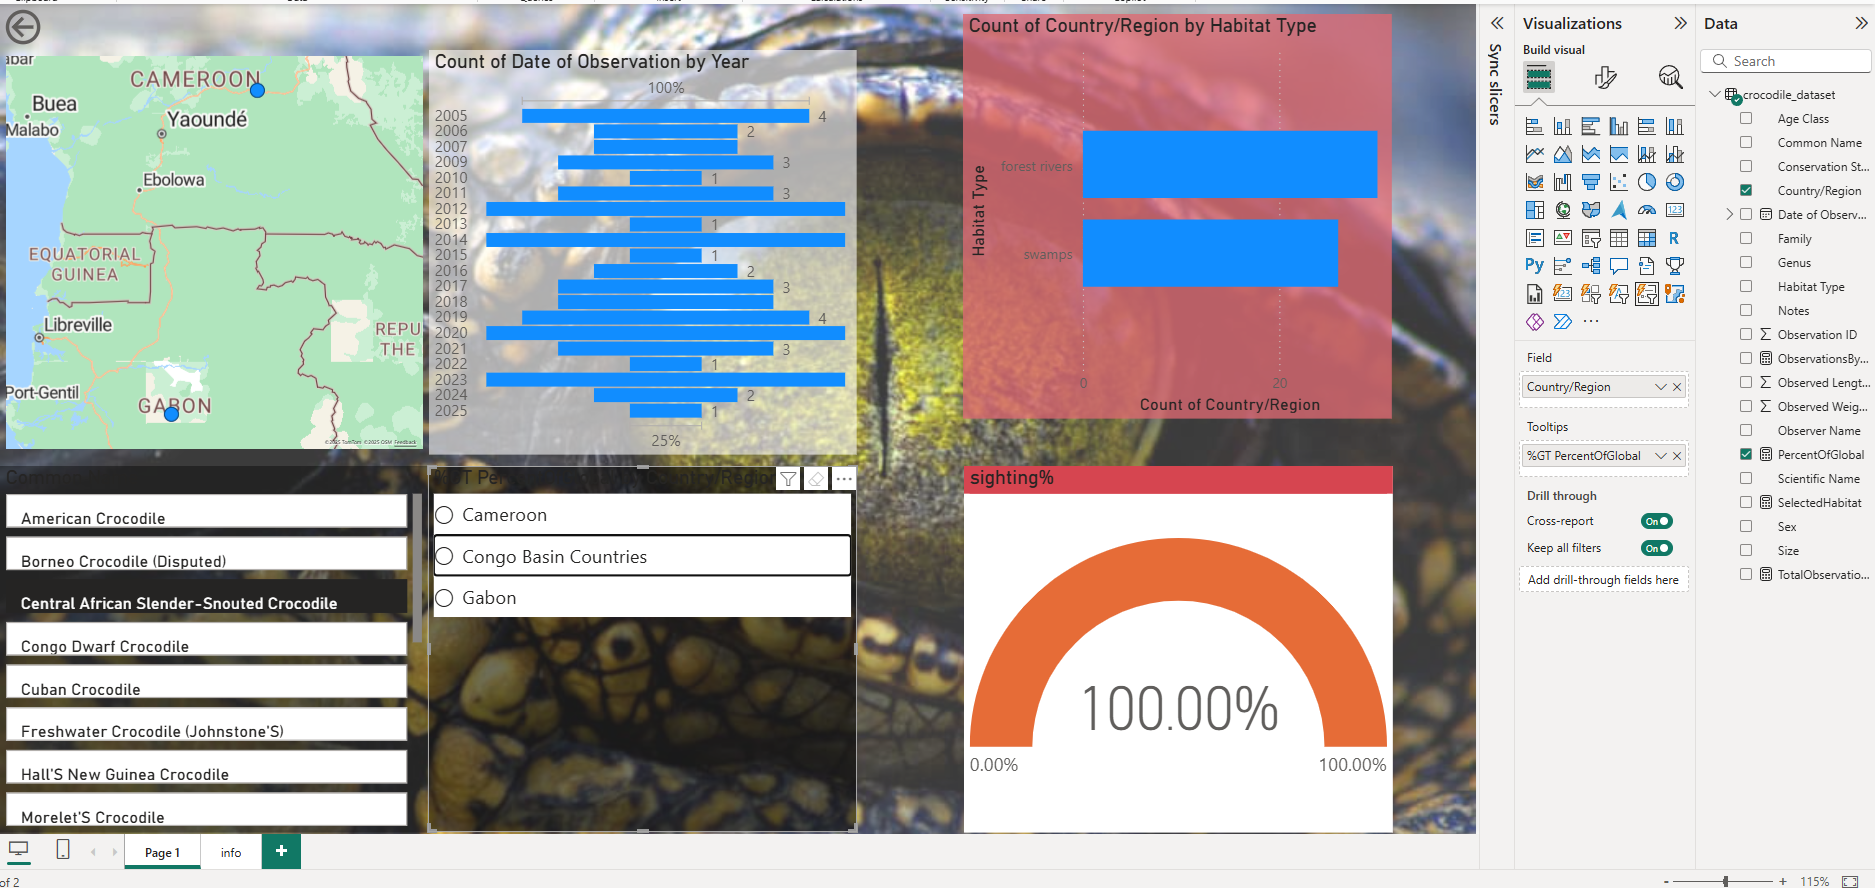

Layout of this report page (visuals, bound fields, positions):
{"tool":"powerbi","page":{"name":"Page 1","canvas":[1280,720],"ordinal":0},"visuals":[{"type":"actionButton","box":[0,0,100,40],"z":0},{"type":"azureMap","fields":{"Category":["crocodile_dataset.Country/Region"]},"box":[0,39.9,371.6,351.1],"z":1000},{"type":"barChart","fields":{"Y":["CountNonNull(crocodile_dataset.Country/Region)"],"Category":["crocodile_dataset.Habitat Type"]},"box":[835.5,8.8,371.6,351.1],"z":2000},{"type":"listSlicer","fields":{"Values":["crocodile_dataset.Country/Region"]},"box":[371,401.5,372.2,318],"z":3000},{"type":"advancedSlicerVisual","fields":{"Values":["crocodile_dataset.Common Name"]},"box":[0,401,371,318],"z":4000},{"type":"gauge","title":"sighting%","fields":{"Y":["crocodile_dataset.PercentOfGlobal"]},"box":[836,401,372,318],"z":5000},{"type":"funnel","fields":{"Y":["CountNonNull(crocodile_dataset.Date of Observation)"],"Category":["crocodile_dataset.Date of Observation.Variation.Date Hierarchy.Year","crocodile_dataset.Date of Observation.Variation.Date Hierarchy.Quarter","crocodile_dataset.Date of Observation.Variation.Date Hierarchy.Month","crocodile_dataset.Date of Observation.Variation.Date Hierarchy.Day"]},"box":[372,40,371,351],"z":6000}]}

Visuals, with their boxes on the page's 1280x720 design canvas (x1, y1, x2, y2). These are canvas units, not pixel positions in the 1875x888 screenshot, which may show the page scaled, cropped or inside an application window:
actionButton: 0/0/100/40
azureMap - crocodile_dataset.Country/Region: 0/40/372/391
barChart - CountNonNull(crocodile_dataset.Country/Region) x crocodile_dataset.Habitat Type: 836/9/1207/360
listSlicer - crocodile_dataset.Country/Region: 371/402/743/720
advancedSlicerVisual - crocodile_dataset.Common Name: 0/401/371/719
"sighting%" gauge: 836/401/1208/719
funnel - CountNonNull(crocodile_dataset.Date of Observation) x crocodile_dataset.Date of Observation.Variation.Date Hierarchy.Year: 372/40/743/391
